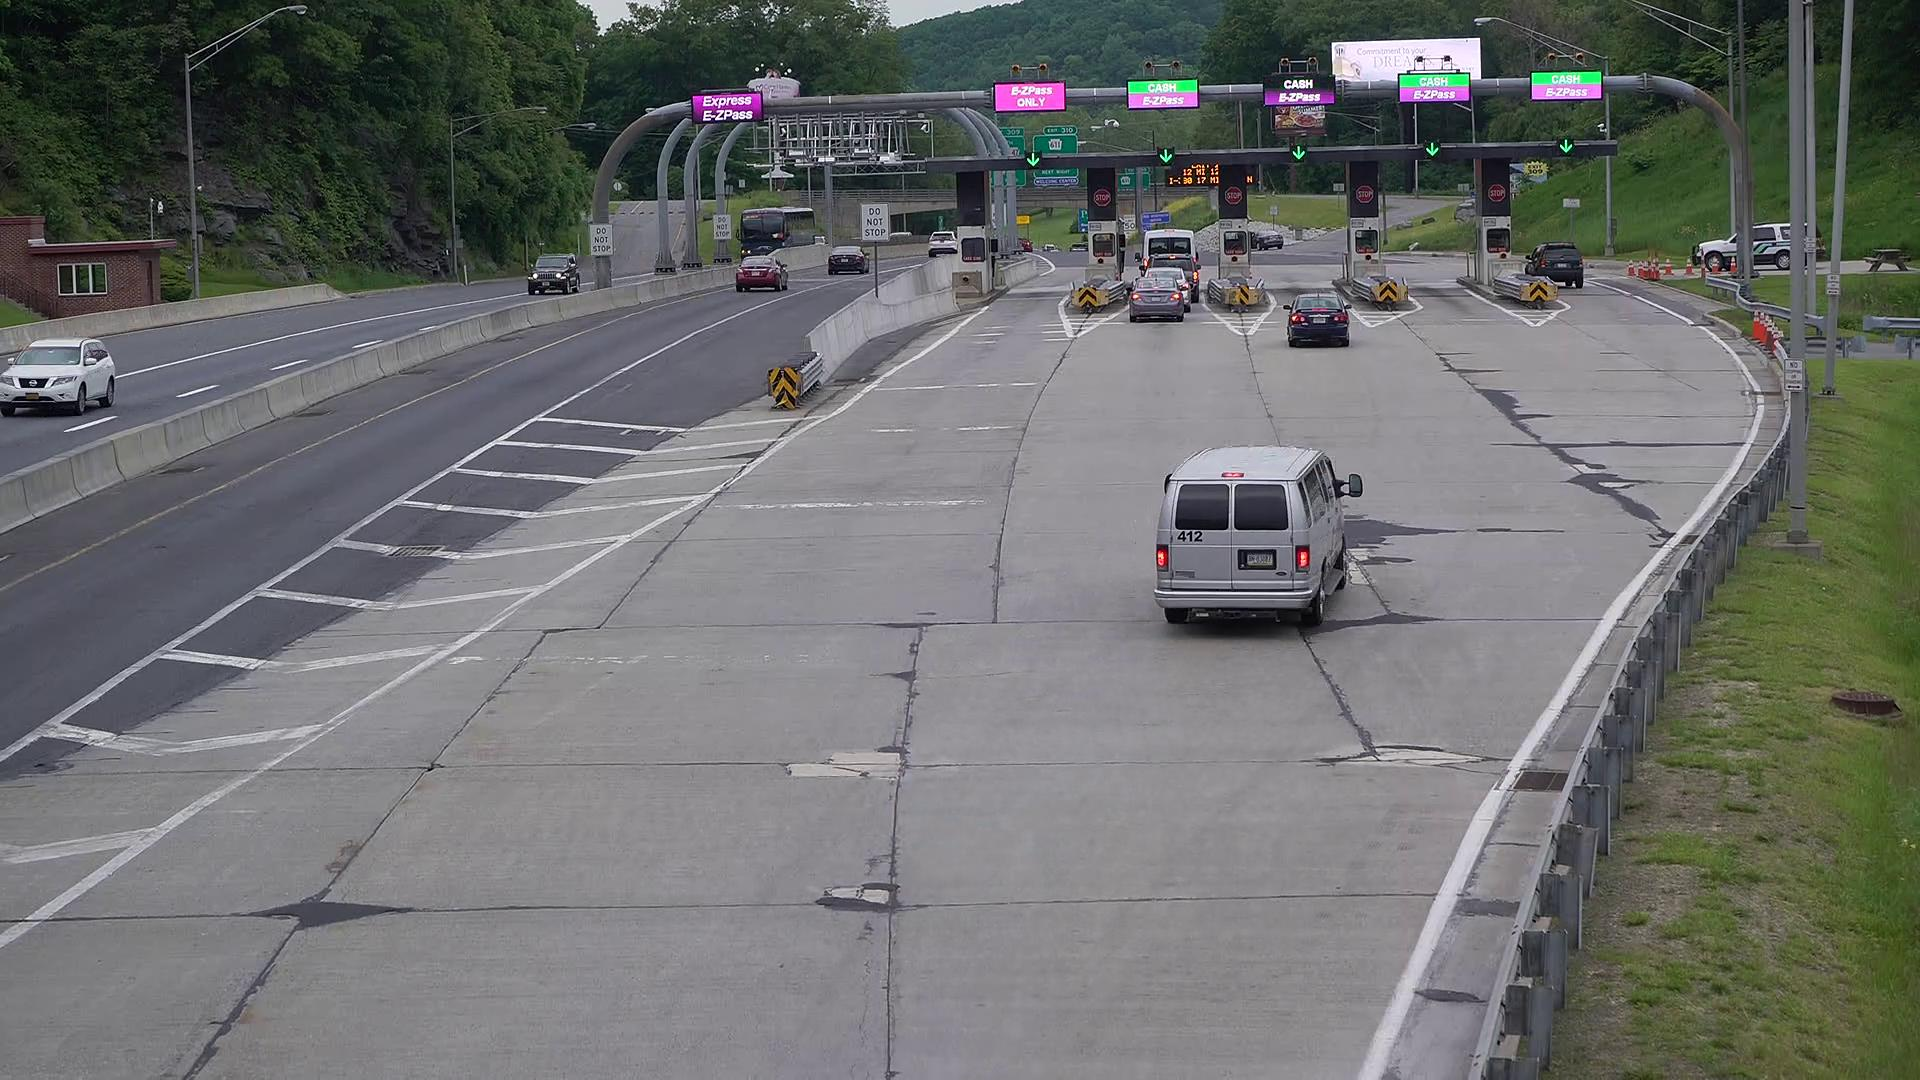van: (1131, 435, 1374, 636)
